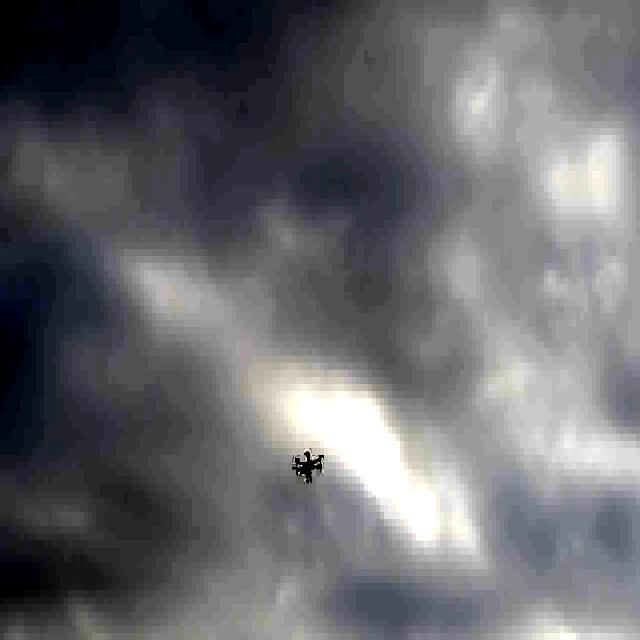drone: (292, 443, 326, 480)
